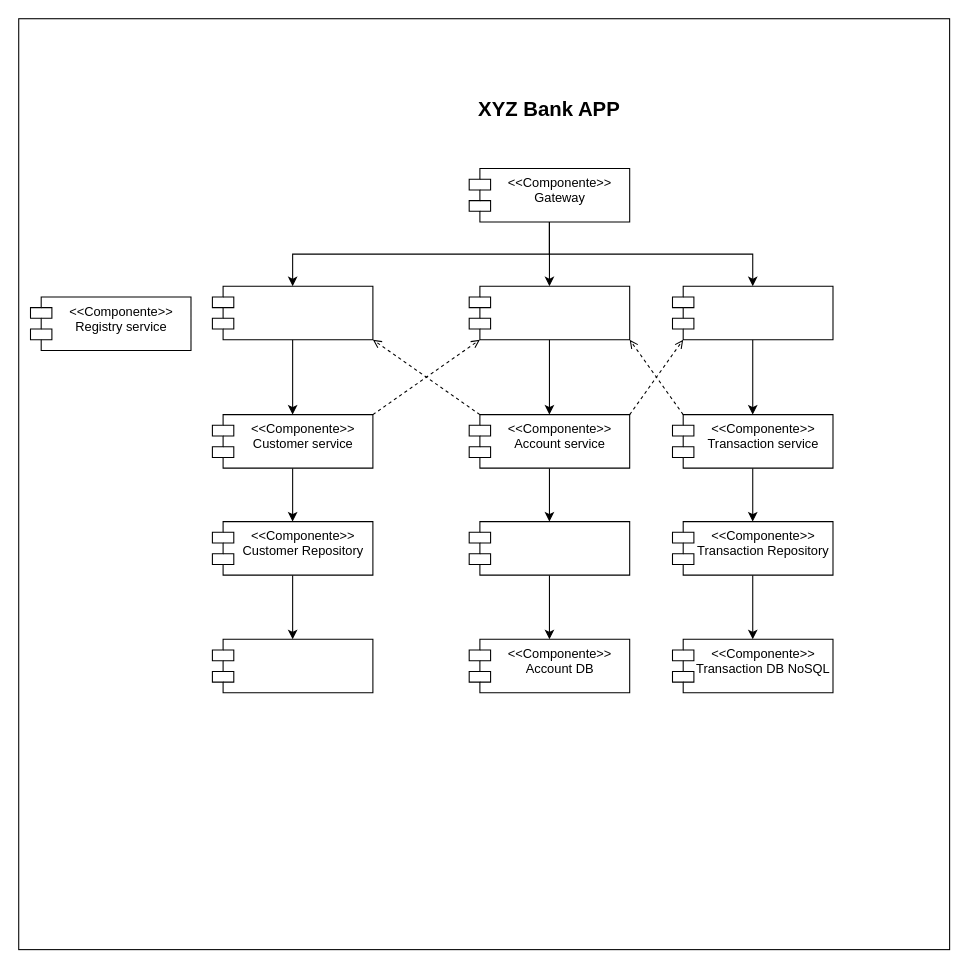
Image size: 968x968. Some labels were removed from this diagram. The centre of each missing label's shape, as x and y in pixels:
<<Componente>> Account Api Delegate: point 549,312
<<Componente>> Account Repository: point 549,548
<<Componente>> Customer Api Delegate: point 292,312
<<Componente>> Customer DB: point 292,665
<<Componente>> Transaction Api Delegate: point 752,312
